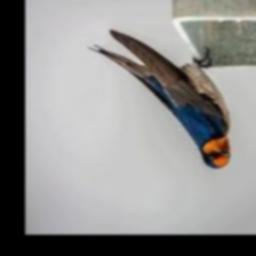Swallow: (88, 30, 230, 169)
